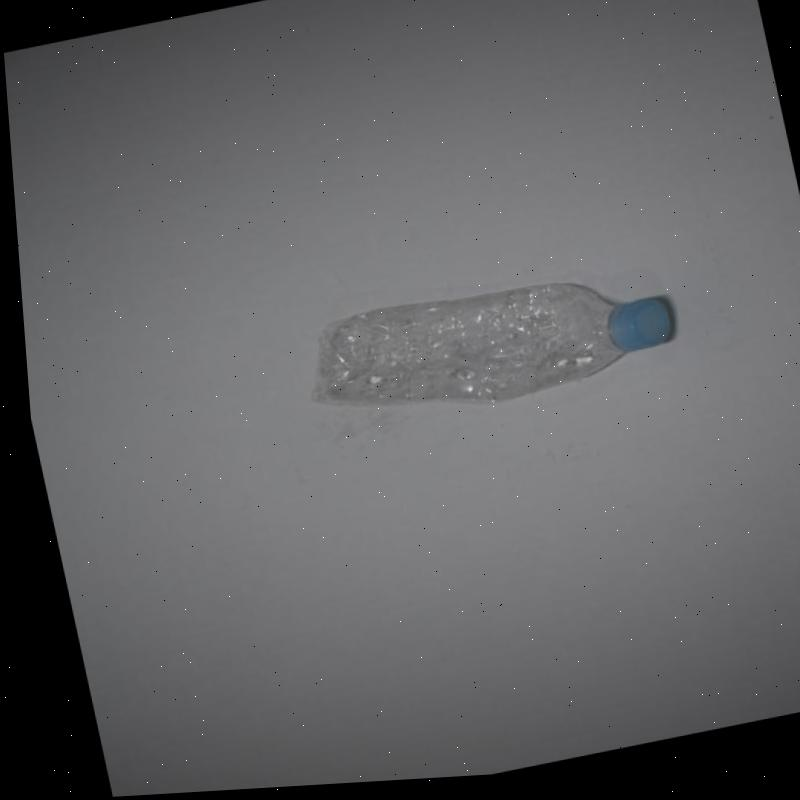botella: (285, 259, 675, 441)
